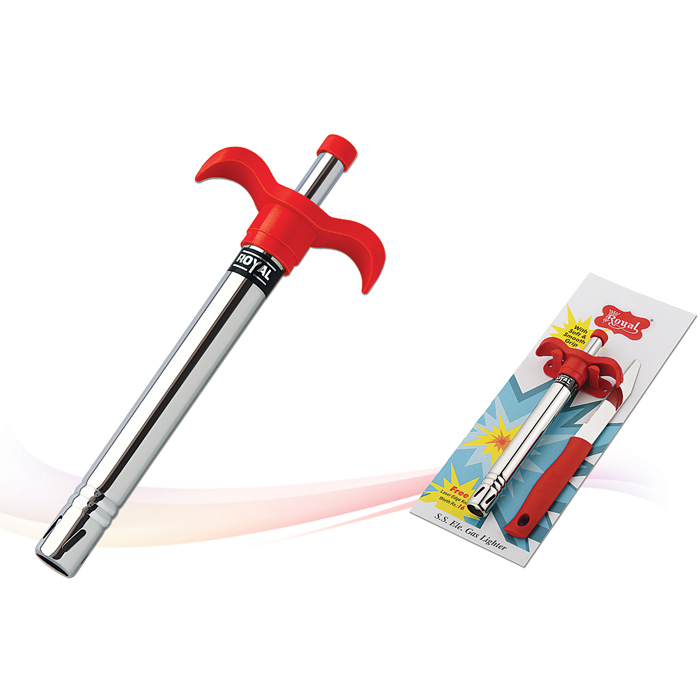Nonrec_Other: (28, 105, 389, 595), (446, 306, 645, 552)
